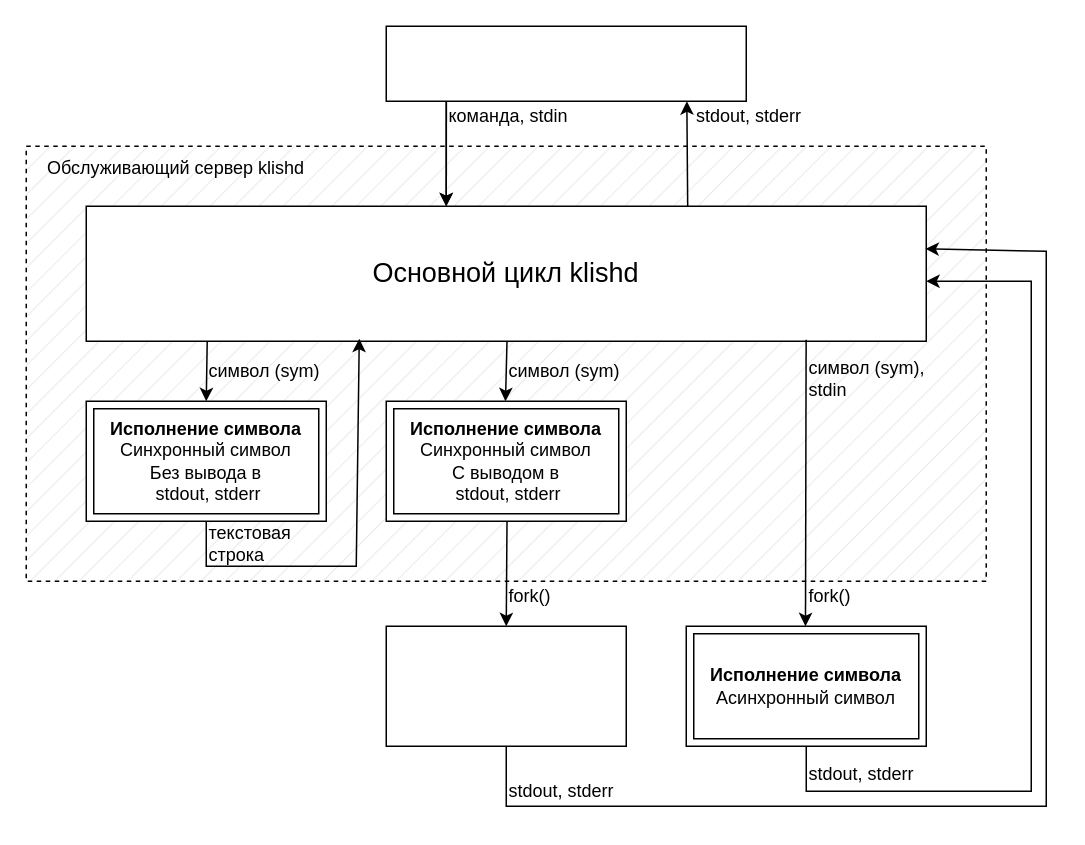
The diagram is 1085 pixels wide and 845 high, and some of its shapes have lost their labels. Each missing label, with the box of its shape:
Клиент klish: (385, 25, 746, 101)
Процесс - приемник stdout, stderr от синхронного символа: (385, 625, 626, 746)
